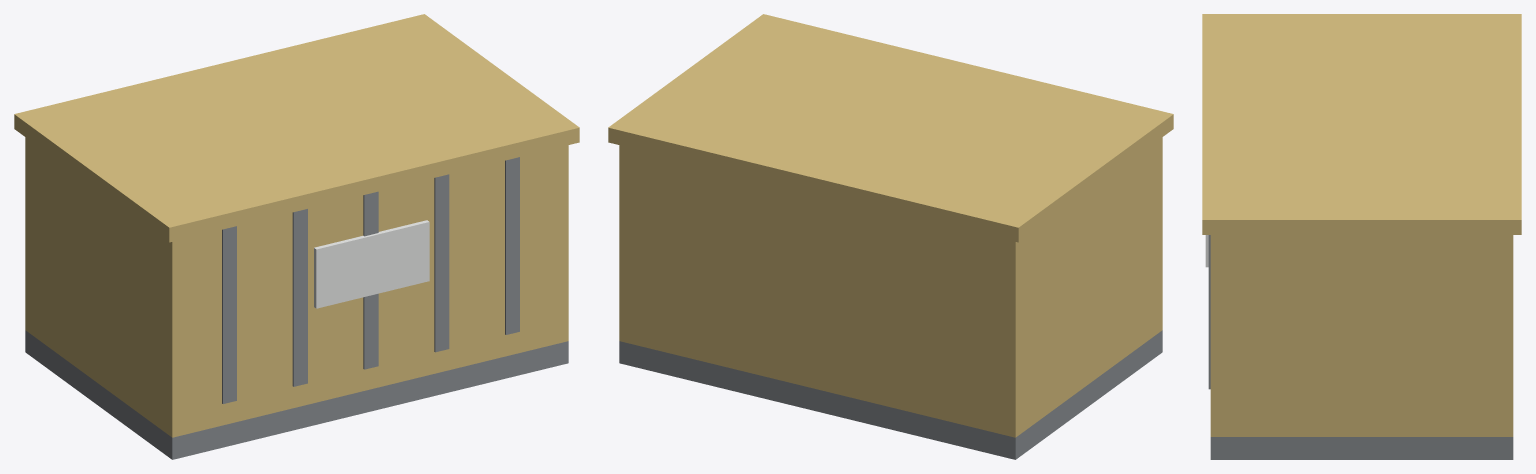
The model's file is P_plastic_crate.fbx.
The picture shows the model from 3 angles, left to right: view 1: azimuth 30°, elevation 25°; view 2: azimuth 150°, elevation 25°; view 3: azimuth 270°, elevation 25°; orthographic projection. The views are drawn at different scales.
Visible parts, largest first — view 1: P_plastic_crate; view 2: P_plastic_crate; view 3: P_plastic_crate.
Part boxes in pixels (x1,y1,x2,y2): P_plastic_crate: (14, 14, 579, 459); P_plastic_crate: (608, 14, 1173, 459); P_plastic_crate: (1202, 14, 1521, 459).
Bounding box in the file's own units: 0.58 × 0.32 × 0.38.
